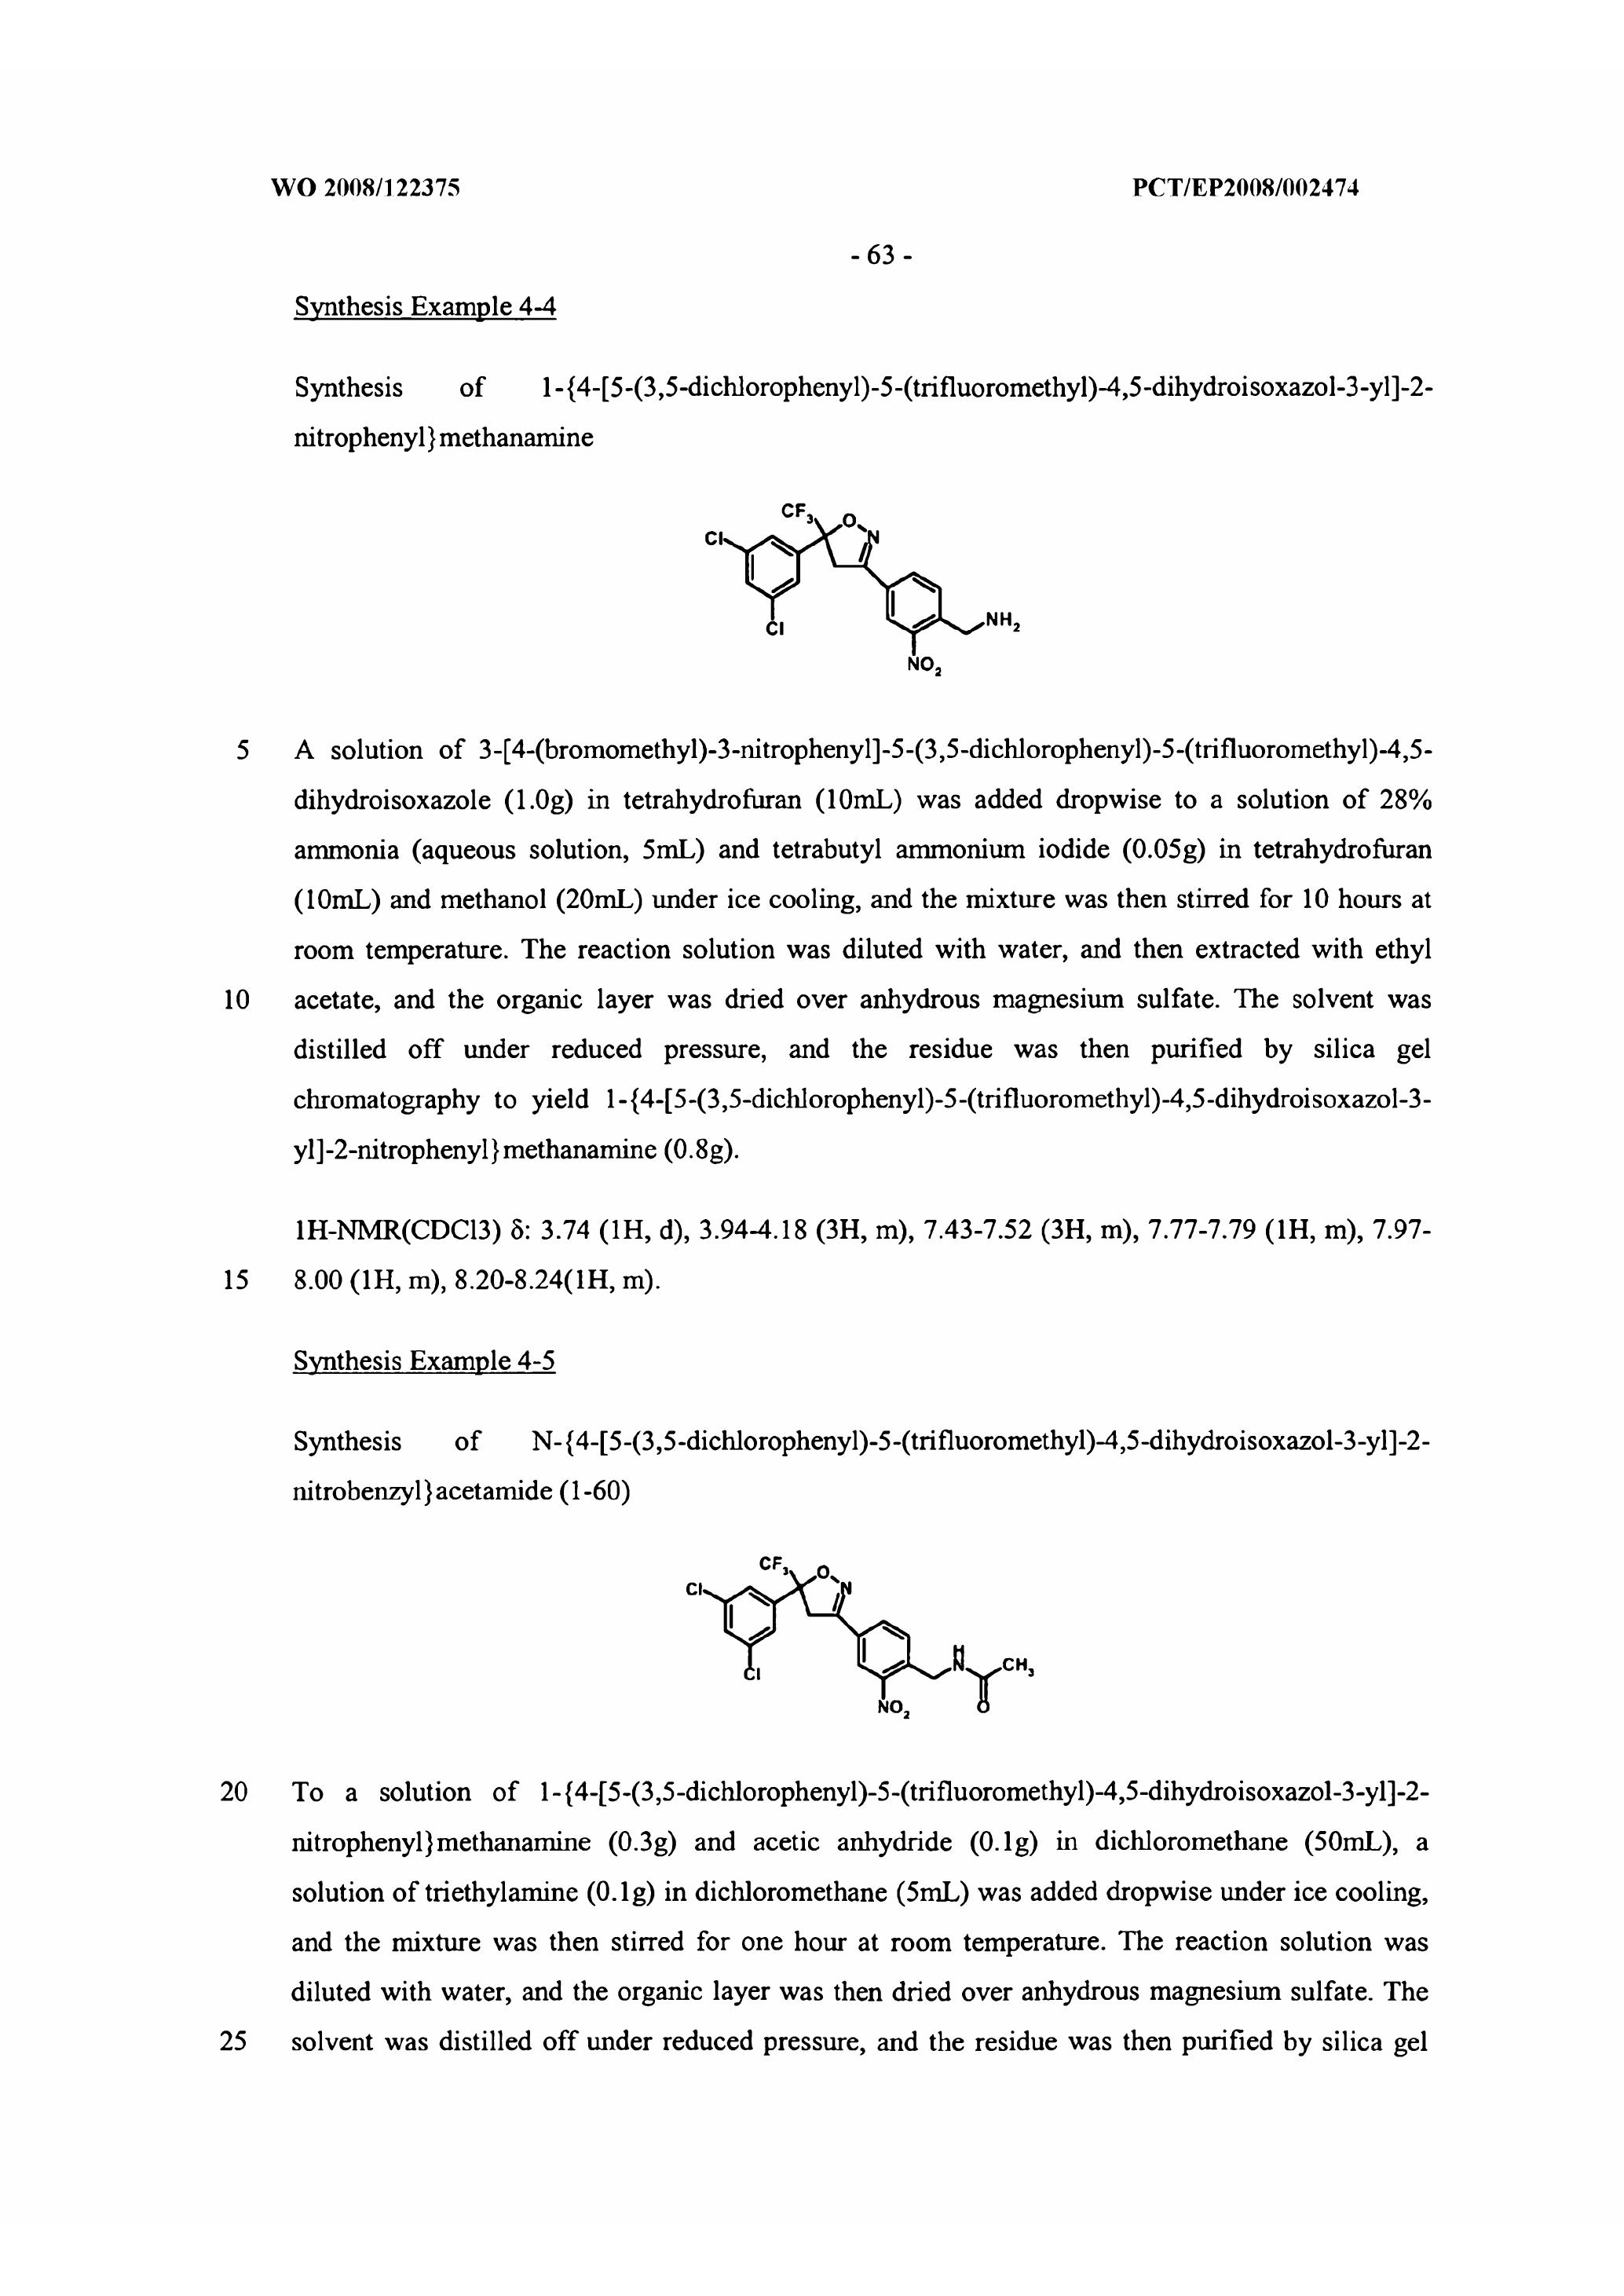relevant-structures: (629, 1477, 1151, 1788), (673, 390, 1156, 700)
